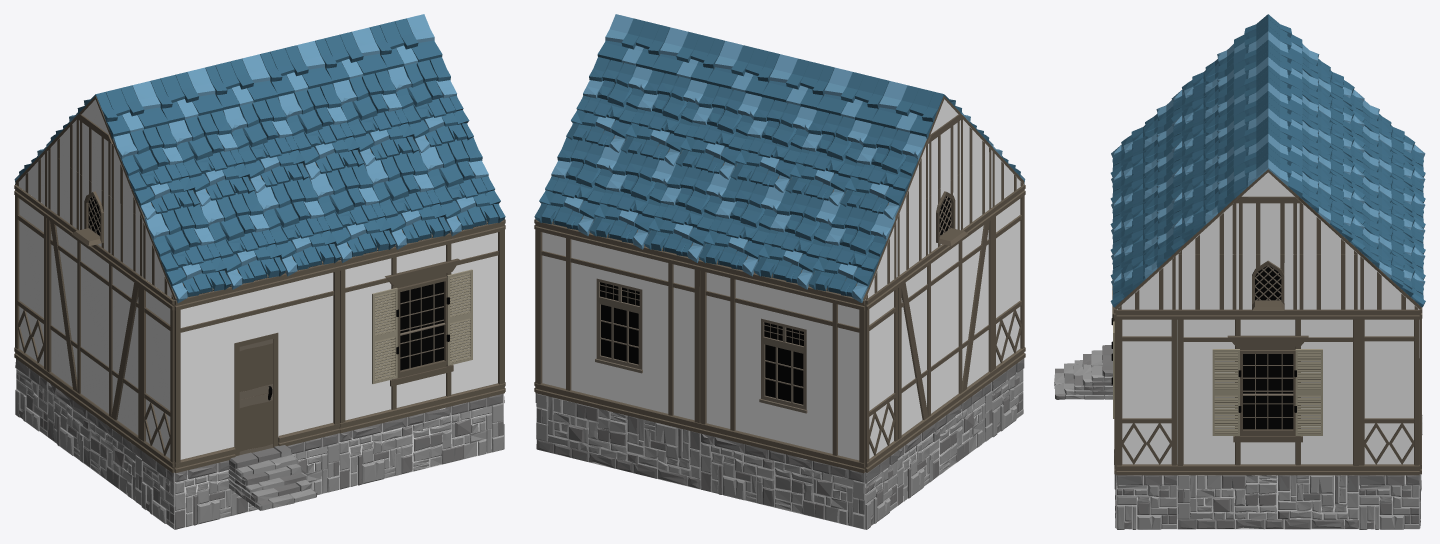
Rendered from House_01_full.glb.
3 views of the same model, side by side, from view 1: azimuth 30°, elevation 25°; view 2: azimuth 150°, elevation 25°; view 3: azimuth 270°, elevation 25° (orthographic). The views are drawn at different scales.
Parts seen in each view (by area): view 1: DOOR_05_2, WINDOW_07_4, WALL_02_2, FOUNDATION_02_26, WALL_01_1.003, FOUNDATION_02_27, WALL_01_1.002, ROOF_base_1.017, FOUNDATION_02_28, ROOF_base_1.023, ROOF_base_1.012, ROOF_base_1.016 (+26 smaller); view 2: WINDOW_03_1.001, WINDOW_03_1, WALL_02_2, FOUNDATION_02_30, FOUNDATION_02_29, WALL_01_1.002, WALL_01_1.003, FOUNDATION_02_28, ROOF_base_1.005, ROOF_base_1.011, ROOF_base_1.004, ROOF_base_1 (+25 smaller); view 3: WINDOW_07_3, WALL_01_1.001, WALL_01_1, FOUNDATION_02_31, ROOF_triangle_window_grid_9, ROOF_up_quad_3, ROOF_up_quad_2, FOUNDATION_03_2, FOUNDATION_03_3, ROOF_up_quad_4, STAIRS_01_6, ROOF_base_1.006 (+42 smaller).
Boxes of the visible parts, x1=… form: DOOR_05_2: x1=174, y1=260, x2=340, y2=472; WINDOW_07_4: x1=339, y1=220, x2=504, y2=433; WALL_02_2: x1=46, y1=208, x2=142, y2=449; FOUNDATION_02_26: x1=339, y1=393, x2=503, y2=489; WALL_01_1.003: x1=140, y1=277, x2=174, y2=472; FOUNDATION_02_27: x1=174, y1=433, x2=339, y2=529; WALL_01_1.002: x1=14, y1=185, x2=47, y2=380; ROOF_base_1.017: x1=143, y1=204, x2=231, y2=303; FOUNDATION_02_28: x1=48, y1=382, x2=142, y2=505; ROOF_base_1.023: x1=111, y1=124, x2=199, y2=219; ROOF_base_1.012: x1=418, y1=137, x2=505, y2=236; ROOF_base_1.016: x1=199, y1=191, x2=286, y2=289; WINDOW_03_1.001: x1=699, y1=260, x2=865, y2=473; WINDOW_03_1: x1=535, y1=220, x2=700, y2=432; WALL_02_2: x1=897, y1=208, x2=993, y2=449; FOUNDATION_02_30: x1=536, y1=393, x2=700, y2=489; FOUNDATION_02_29: x1=701, y1=433, x2=865, y2=529; WALL_01_1.002: x1=865, y1=277, x2=899, y2=472; WALL_01_1.003: x1=992, y1=184, x2=1025, y2=379; FOUNDATION_02_28: x1=897, y1=382, x2=992, y2=506; ROOF_base_1.005: x1=808, y1=204, x2=896, y2=302; ROOF_base_1.011: x1=840, y1=124, x2=928, y2=219; ROOF_base_1.004: x1=753, y1=191, x2=840, y2=289; ROOF_base_1: x1=534, y1=137, x2=621, y2=236; WINDOW_07_3: x1=1177, y1=309, x2=1358, y2=475; WALL_01_1.001: x1=1116, y1=309, x2=1177, y2=475; WALL_01_1: x1=1359, y1=309, x2=1419, y2=475; FOUNDATION_02_31: x1=1177, y1=475, x2=1358, y2=529; ROOF_triangle_window_grid_9: x1=1238, y1=254, x2=1298, y2=310; ROOF_up_quad_3: x1=1298, y1=254, x2=1358, y2=309; ROOF_up_quad_2: x1=1177, y1=254, x2=1237, y2=309; FOUNDATION_03_2: x1=1116, y1=475, x2=1177, y2=529; FOUNDATION_03_3: x1=1359, y1=475, x2=1419, y2=529; ROOF_up_quad_4: x1=1238, y1=203, x2=1298, y2=254; STAIRS_01_6: x1=1054, y1=345, x2=1112, y2=399; ROOF_base_1.006: x1=1298, y1=172, x2=1364, y2=253.
Size of the model in its own units: 6.56 by 6.59 by 6.13.
1 material, 1 textured.
